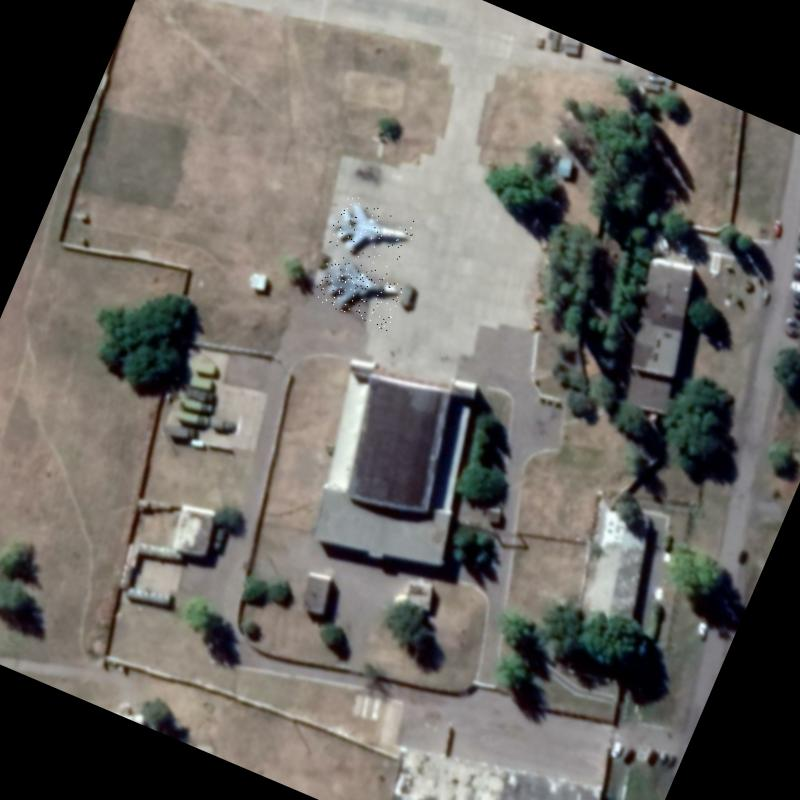A19: (312, 250, 408, 332), (326, 193, 419, 274)
